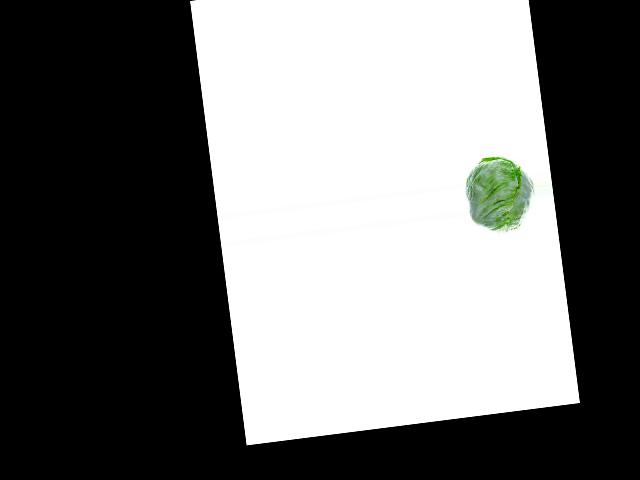lettuce: (465, 154, 537, 234)
